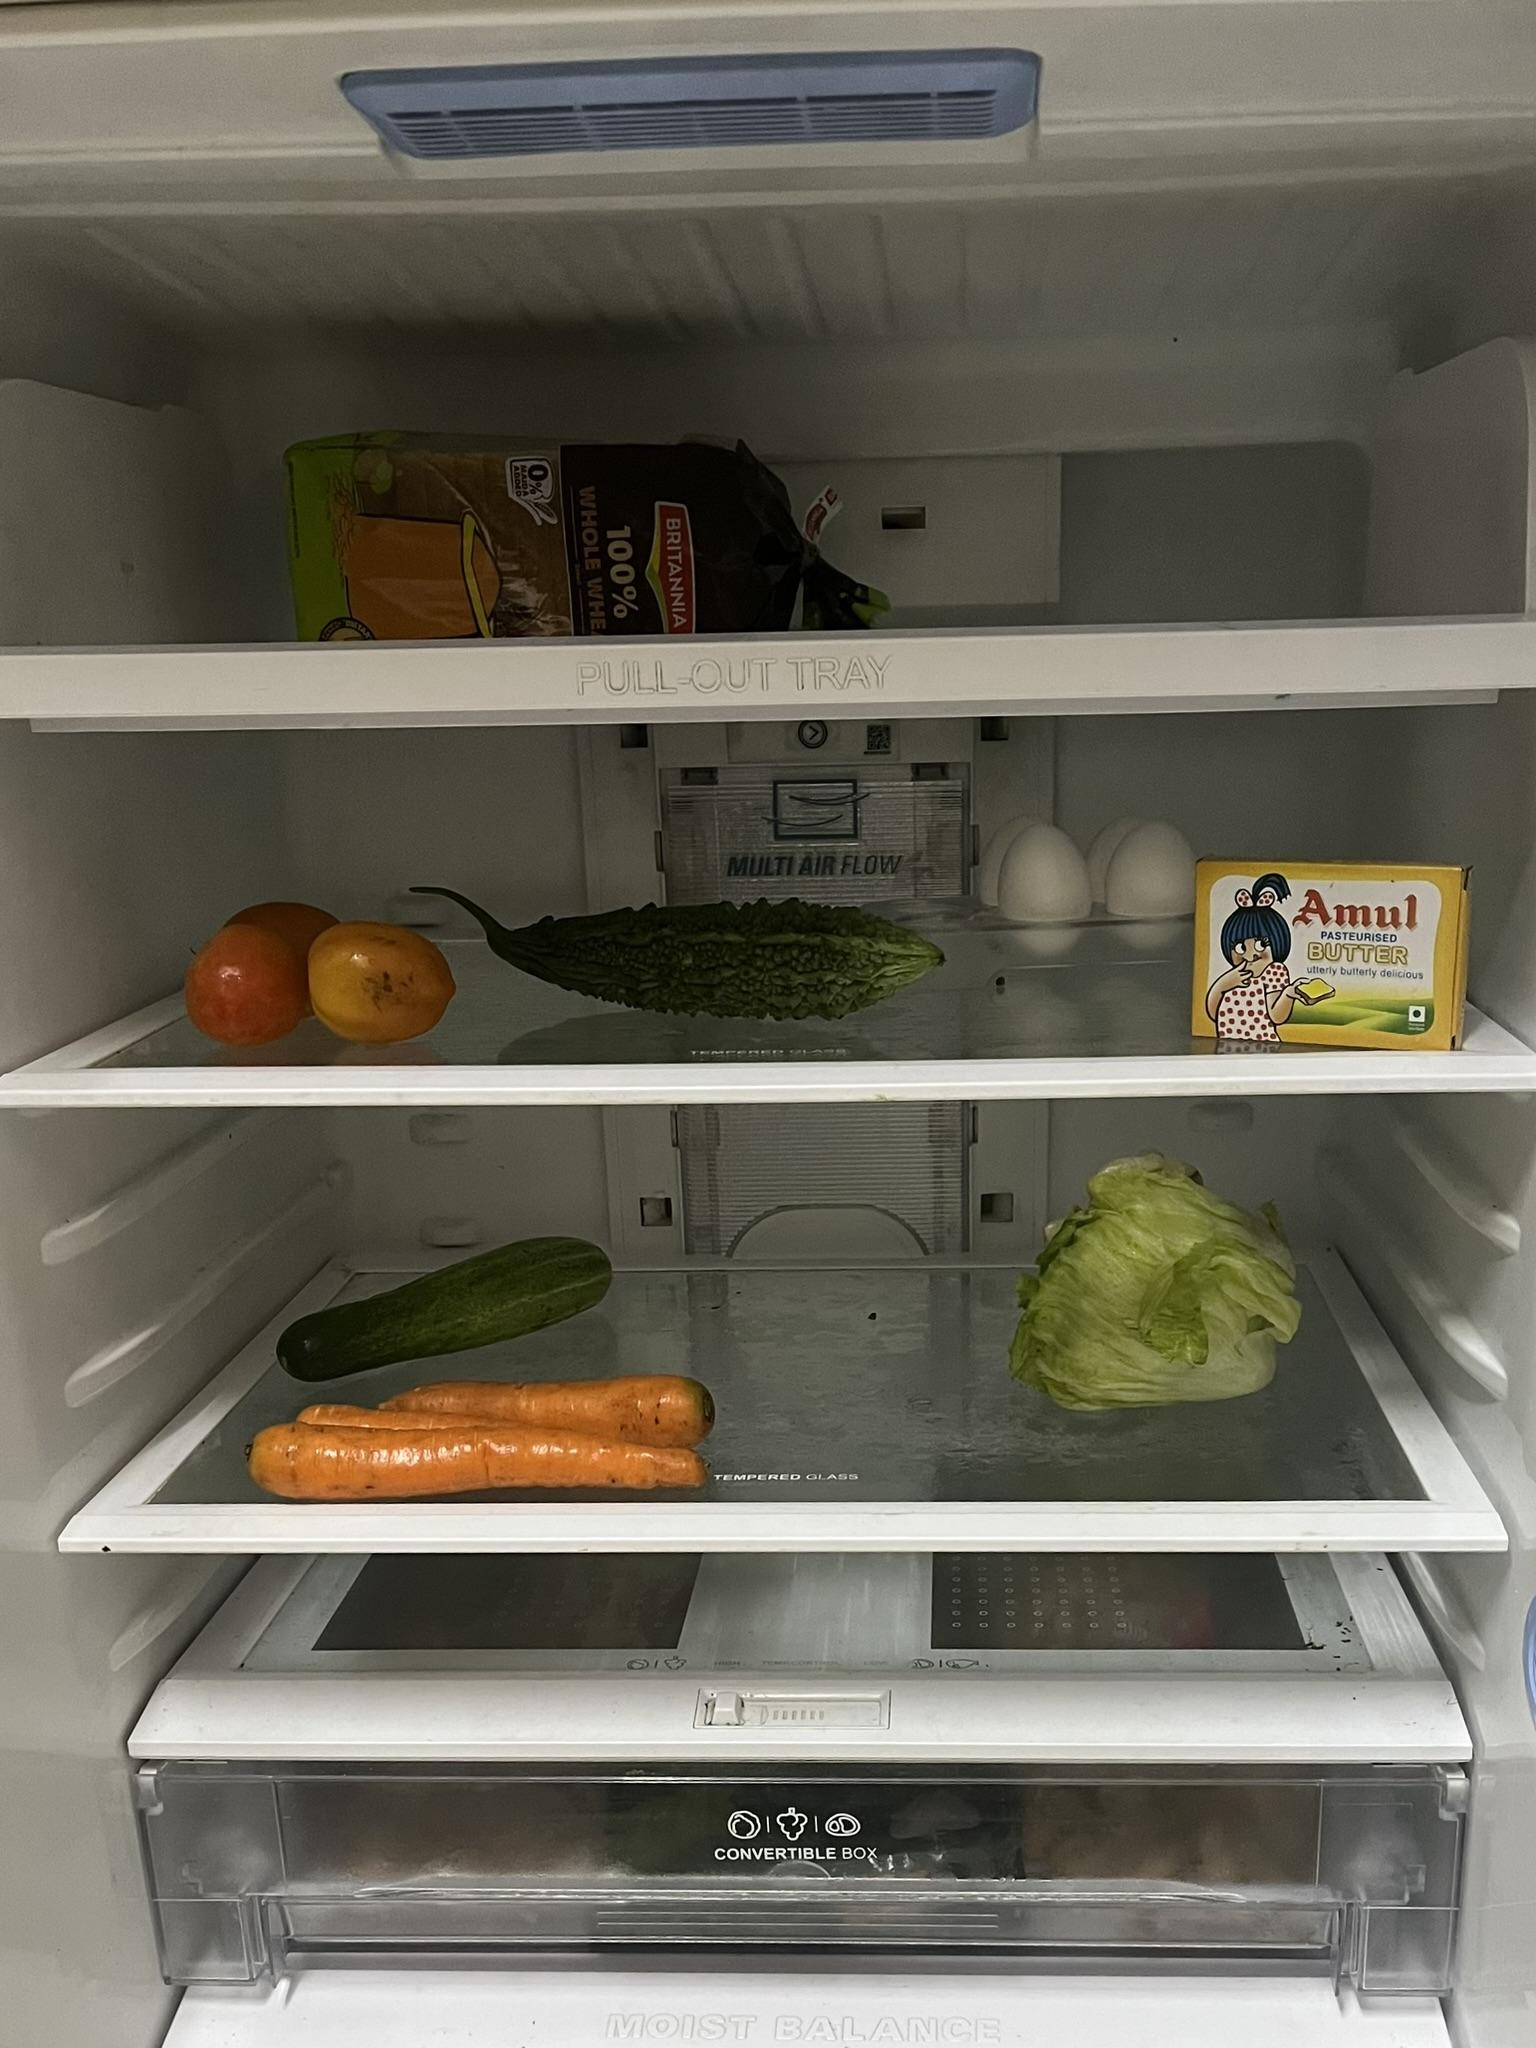bitter gaurd: (450, 897, 957, 1013)
butter: (1197, 871, 1454, 1050)
carrots: (250, 1371, 713, 1493)
cucumber: (311, 440, 842, 627), (287, 1240, 613, 1380)
egg: (991, 813, 1194, 959)
lettuce: (1000, 1156, 1294, 1424)
tomato: (173, 897, 457, 1050)
